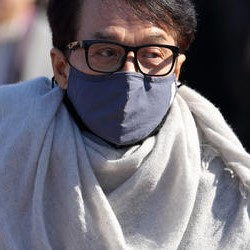mask: (69, 56, 176, 146)
